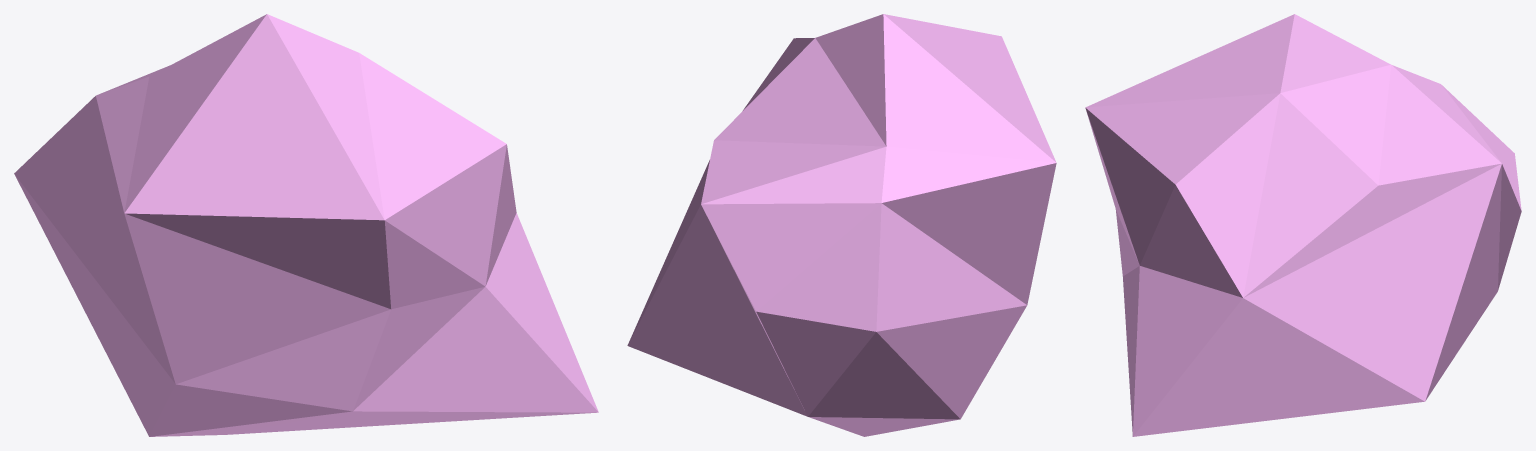
Rendered from item_brain_chunk.glb.
3 views of the same model, side by side, from view 1: azimuth 30°, elevation 25°; view 2: azimuth 150°, elevation 25°; view 3: azimuth 270°, elevation 25° (orthographic). The views are drawn at different scales.
Visible parts, largest first — view 1: UraniumBlob_Med; view 2: UraniumBlob_Med; view 3: UraniumBlob_Med.
Part boxes in pixels (x1,y1,x2,y2): UraniumBlob_Med: [14, 14, 598, 436]; UraniumBlob_Med: [627, 14, 1056, 436]; UraniumBlob_Med: [1085, 14, 1521, 436].
Size of the model in its own units: 0.226 by 0.2366 by 0.2513.
